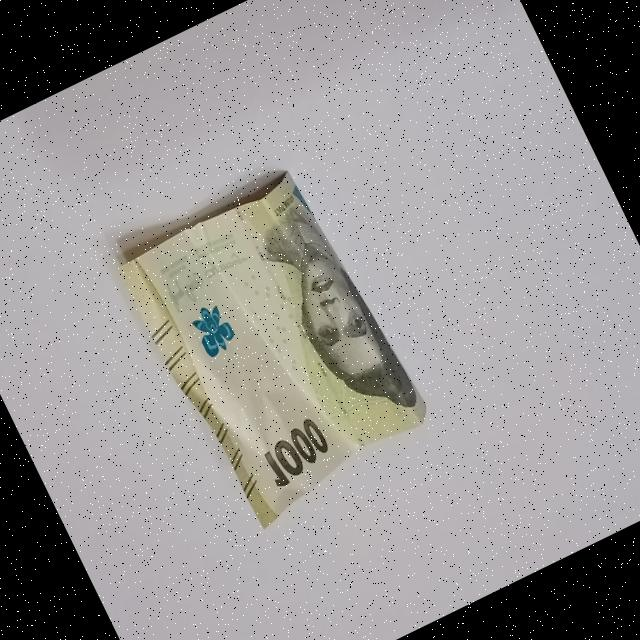1K: (90, 140, 454, 558)
